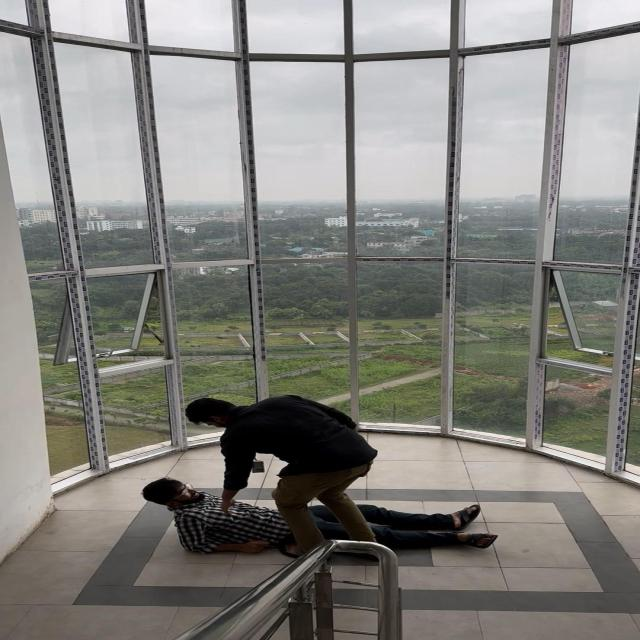fight: (99, 381, 520, 578)
